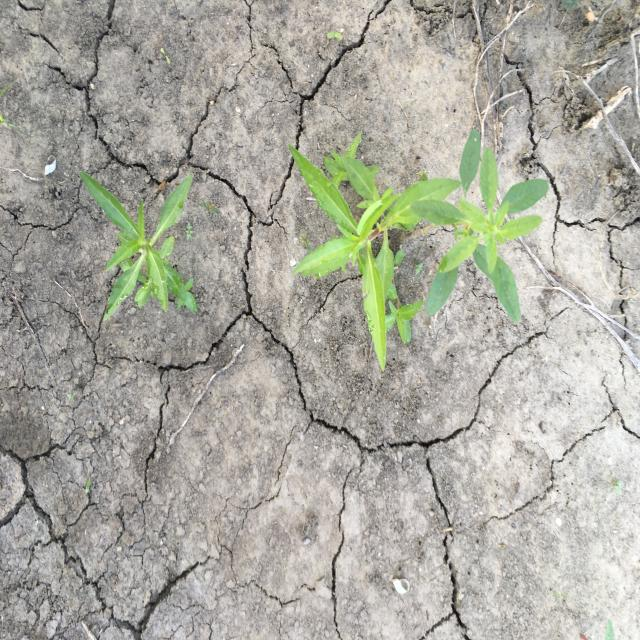Eclipta: (287, 129, 463, 373), (78, 169, 200, 324)
Waterhemp: (409, 117, 550, 326)
